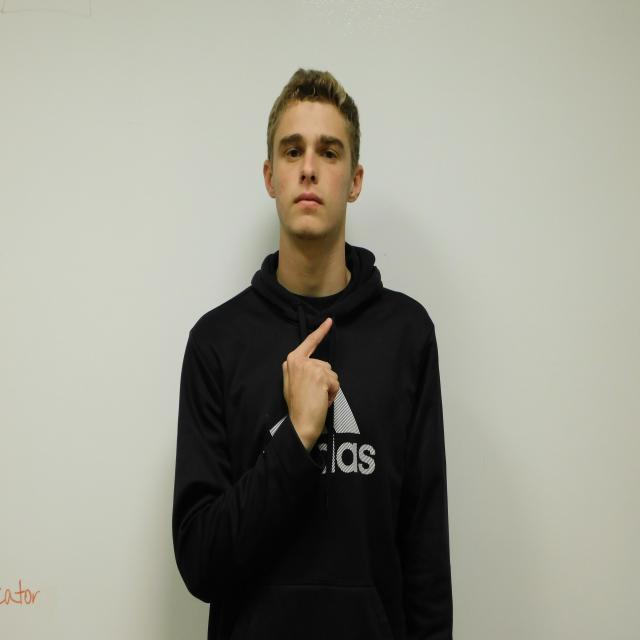I: (283, 317, 339, 442)
